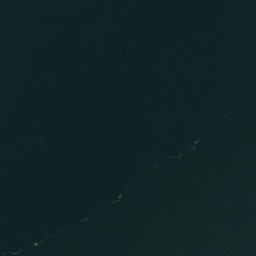Marine Debris: (33, 242, 39, 247)
